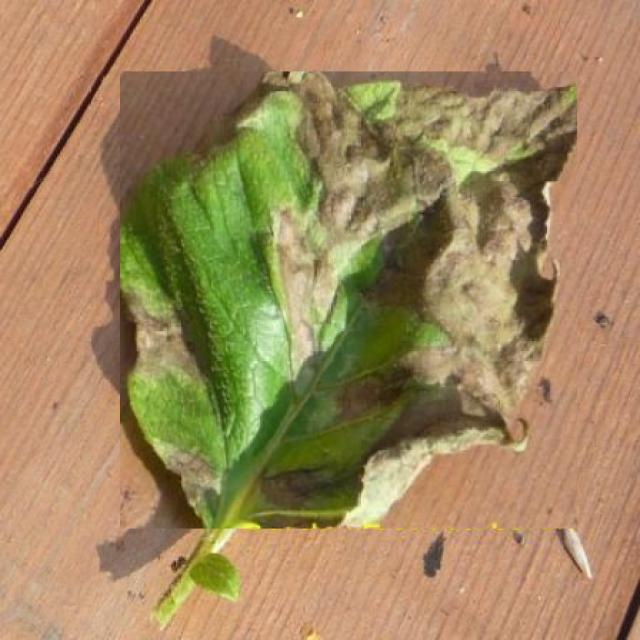Late Blight: (120, 72, 577, 528)
